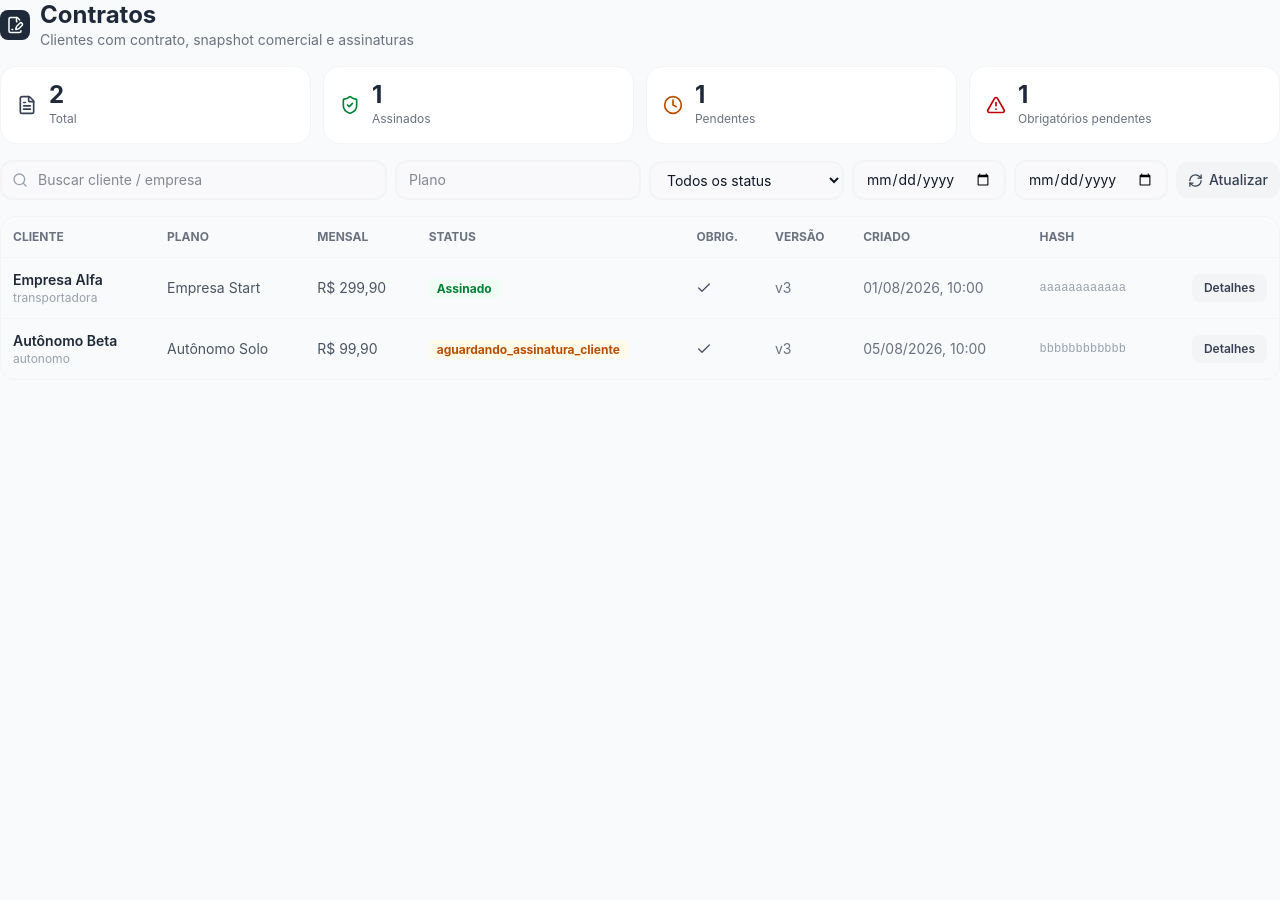
Scenario: PainelContratos (página real, API mockada) › 5. abrir detalhe busca /contratos/:id e mostra snapshot/signatários
Expected: the text "Empresa Alfa" is shown, [13, 271, 103, 288]
Click the button "Detalhes" in the row of "Empresa Alfa" at (1229, 288), box [1192, 274, 1267, 302]
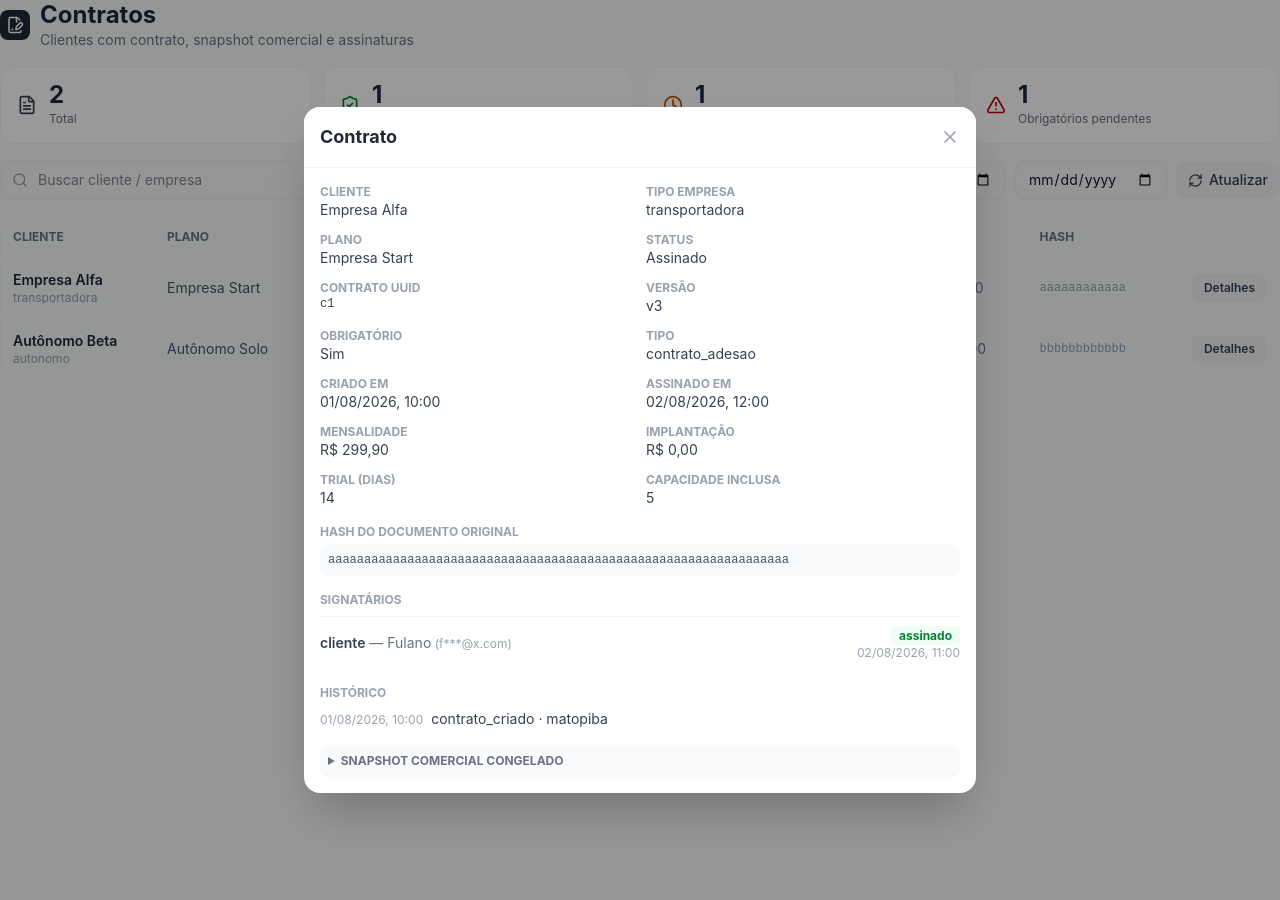
Expected: the heading "Snapshot comercial congelado" is shown, [341, 753, 564, 768]
Expected: the text "cliente" is shown, [320, 634, 365, 651]
